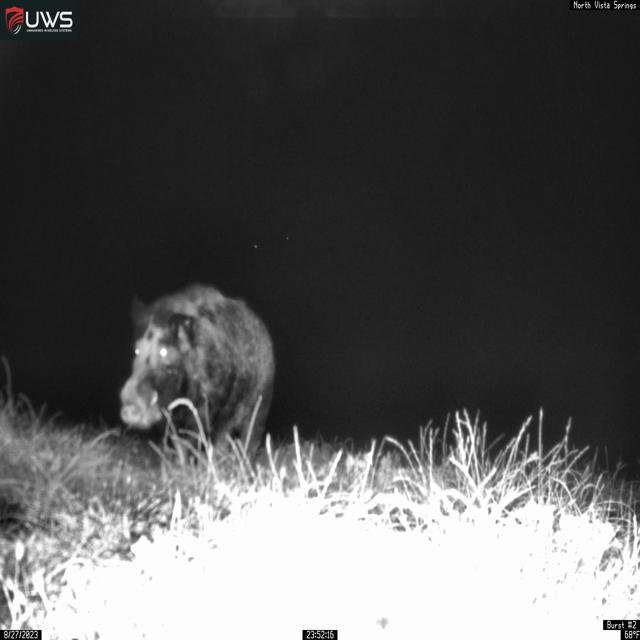pig: (119, 282, 276, 472)
